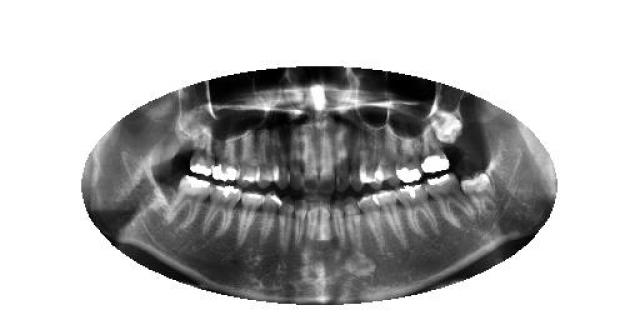Fillings: (427, 172, 475, 228), (164, 175, 210, 229), (394, 182, 438, 236), (201, 184, 241, 238), (419, 132, 450, 176), (397, 135, 422, 183), (190, 128, 214, 178), (214, 135, 238, 181)
